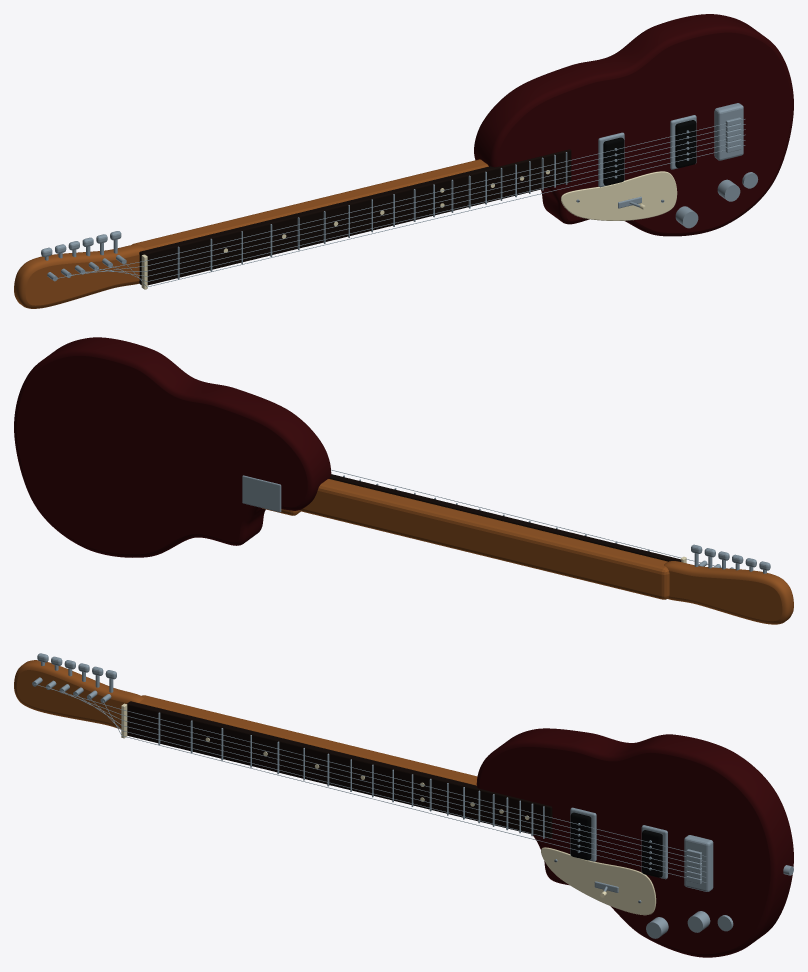
The model's file is Guitar.obj.
3 renders of one model, top to bottom at view 1: azimuth 30°, elevation 25°; view 2: azimuth 150°, elevation 25°; view 3: azimuth 330°, elevation 25°, orthographic.
Visible parts, largest first — view 1: Carved_body, Rosewood_fingerboard, Headstock, Inset_pickguard, Maple_neck, Bridge, Pickup, Pickup.001, String_3, String_2, String_6, String_4 (+2 smaller); view 2: Carved_body, Maple_neck, Headstock, Rosewood_fingerboard, Neck_mounting_plate; view 3: Carved_body, Rosewood_fingerboard, Headstock, Inset_pickguard, Maple_neck, Bridge, Pickup, Pickup.001, String_1, String_2, String_3, String_6 (+2 smaller).
Boxes of the visible parts, x1=… form: Carved_body: x1=474, y1=14, x2=793, y2=236; Rosewood_fingerboard: x1=139, y1=149, x2=571, y2=285; Headstock: x1=14, y1=244, x2=145, y2=308; Inset_pickguard: x1=561, y1=171, x2=677, y2=220; Maple_neck: x1=132, y1=159, x2=488, y2=249; Bridge: x1=714, y1=103, x2=743, y2=160; Pickup: x1=603, y1=137, x2=624, y2=185; Pickup.001: x1=675, y1=120, x2=696, y2=168; String_3: x1=147, y1=134, x2=745, y2=276; String_2: x1=147, y1=140, x2=745, y2=281; String_6: x1=147, y1=119, x2=745, y2=260; String_4: x1=147, y1=129, x2=745, y2=271; Carved_body: x1=14, y1=337, x2=331, y2=557; Maple_neck: x1=300, y1=479, x2=669, y2=599; Headstock: x1=664, y1=561, x2=793, y2=624; Rosewood_fingerboard: x1=329, y1=474, x2=681, y2=561; Neck_mounting_plate: x1=242, y1=475, x2=281, y2=512; Carved_body: x1=476, y1=728, x2=793, y2=957; Rosewood_fingerboard: x1=127, y1=701, x2=552, y2=838; Headstock: x1=14, y1=660, x2=143, y2=728; Inset_pickguard: x1=541, y1=847, x2=656, y2=915; Maple_neck: x1=139, y1=695, x2=477, y2=785; Bridge: x1=684, y1=835, x2=713, y2=891; Pickup: x1=570, y1=812, x2=591, y2=860; Pickup.001: x1=642, y1=830, x2=662, y2=877; String_1: x1=122, y1=735, x2=706, y2=882; String_2: x1=122, y1=730, x2=705, y2=877; String_3: x1=122, y1=725, x2=706, y2=872; String_6: x1=122, y1=709, x2=706, y2=856.
Size of the model in its own units: 1.3 by 0.3256 by 0.0959.
